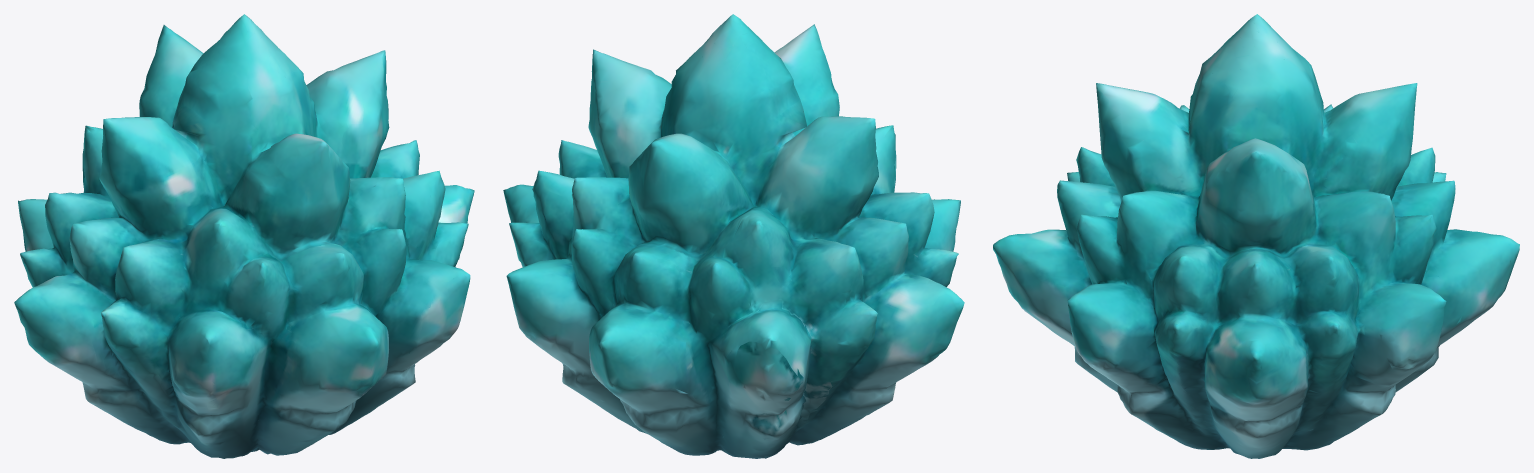
Rendered from crystal.glb.
The picture shows the model from 3 angles, left to right: view 1: azimuth 30°, elevation 25°; view 2: azimuth 150°, elevation 25°; view 3: azimuth 270°, elevation 25°; orthographic projection.
Visible parts, largest first — view 1: model; view 2: model; view 3: model.
Boxes of the visible parts, x1,y1,x2,y2 form: model: (14, 14, 474, 458); model: (503, 14, 964, 458); model: (993, 14, 1519, 458).
Bounding box in the file's own units: 1.9 × 1.6 × 1.89.
1 material, 1 textured.
